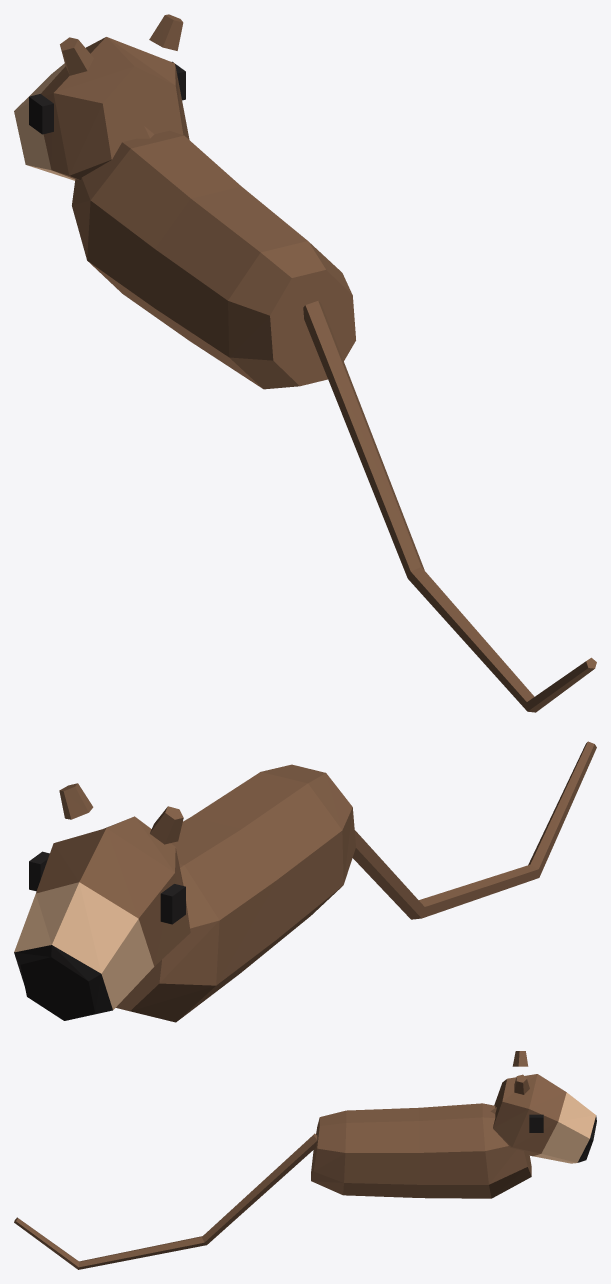
Rendered from animal_monkey.obj.
3 views of the same model, one above another, from view 1: azimuth 30°, elevation 25°; view 2: azimuth 150°, elevation 25°; view 3: azimuth 270°, elevation 25° (orthographic). The views are drawn at different scales.
Visible parts, largest first — view 1: animal_monkey; view 2: animal_monkey; view 3: animal_monkey.
Part boxes in pixels (left/top/right/bottom): animal_monkey: left=14, top=14, right=596, bottom=712; animal_monkey: left=14, top=741, right=596, bottom=1022; animal_monkey: left=14, top=1051, right=596, bottom=1269.
Bounding box in the file's own units: 0.1968 × 0.5035 × 1.29.
